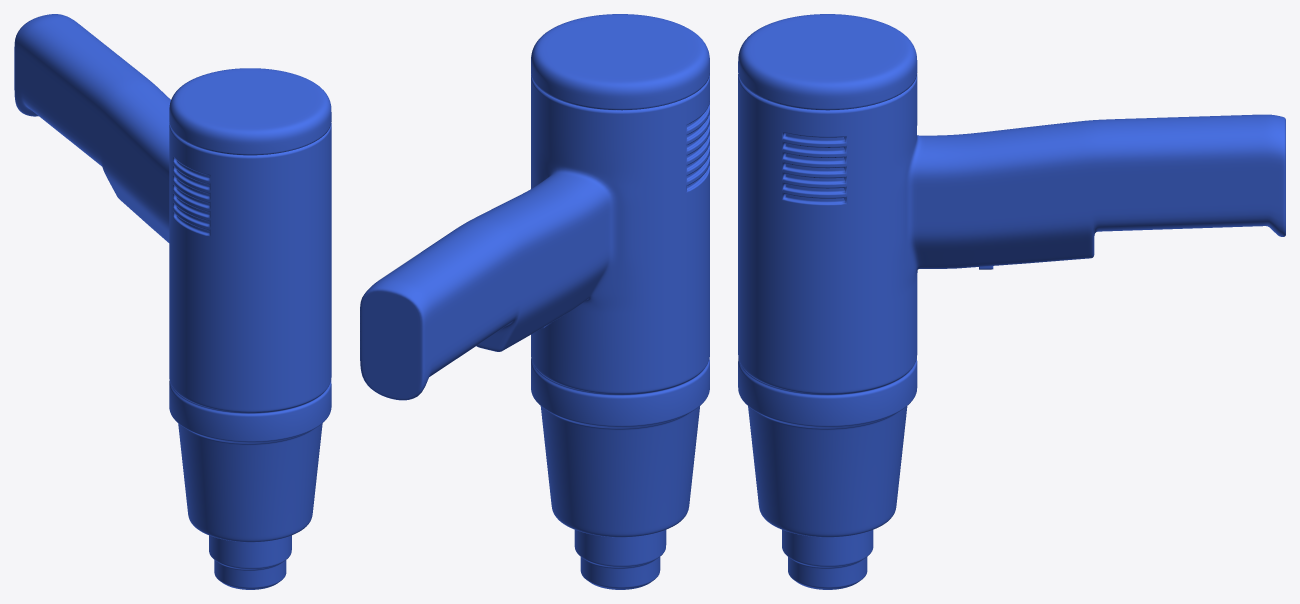
File: heat gun blue.fbx
3 views of the same model, side by side, from view 1: azimuth 30°, elevation 25°; view 2: azimuth 150°, elevation 25°; view 3: azimuth 270°, elevation 25° (orthographic). The views are drawn at different scales.
Parts seen in each view (by area): view 1: 17727_Heat_Gun_v1; view 2: 17727_Heat_Gun_v1; view 3: 17727_Heat_Gun_v1.
Part boxes in pixels (<box>): 17727_Heat_Gun_v1: <box>14,14,331,589</box>; 17727_Heat_Gun_v1: <box>360,14,709,589</box>; 17727_Heat_Gun_v1: <box>738,14,1285,589</box>.
Bounding box in the file's own units: 741 × 2408 × 2266.
